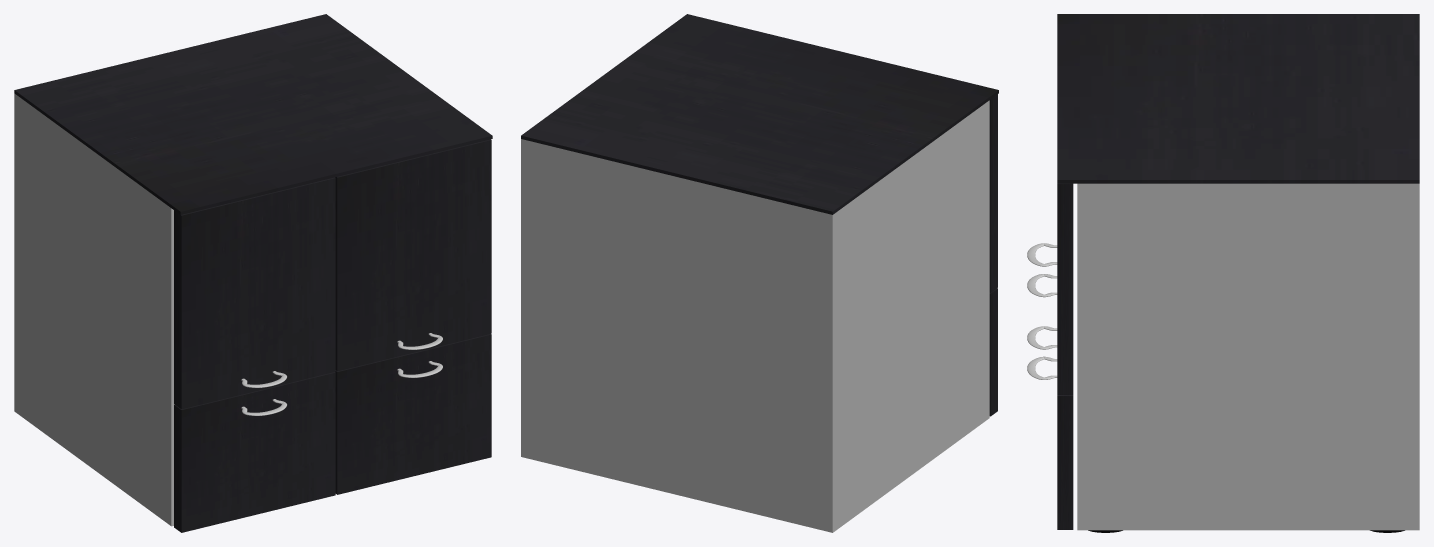
The model's file is sh-lp-mobile90198-w.glb.
3 renders of one model, left to right at view 1: azimuth 30°, elevation 25°; view 2: azimuth 150°, elevation 25°; view 3: azimuth 270°, elevation 25°, orthographic. The views are drawn at different scales.
Parts seen in each view (by area): view 1: Box38_2, Line32_1; view 2: Line32_1, Box38_2; view 3: Line32_1, Box38_2.
Boxes of the visible parts, x1,y1,x2,y2 form: Box38_2: [14, 14, 492, 532]; Line32_1: [14, 93, 442, 526]; Line32_1: [521, 100, 989, 532]; Box38_2: [521, 14, 998, 416]; Line32_1: [1027, 183, 1419, 530]; Box38_2: [1057, 14, 1419, 529].
Bounding box in the file's own units: 1 × 1 × 1.
3 materials, 1 textured.
